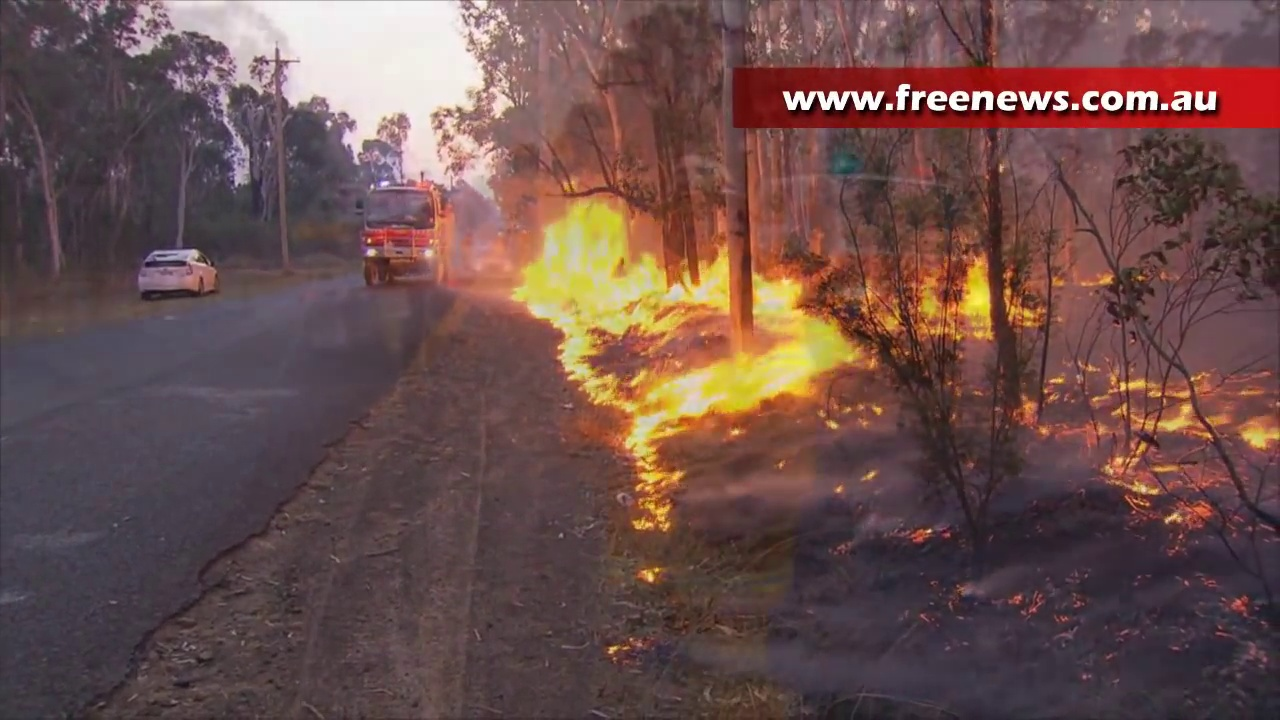fire: (625, 275, 853, 437), (510, 202, 729, 338), (1101, 376, 1280, 510), (618, 448, 687, 530), (924, 251, 988, 339)
